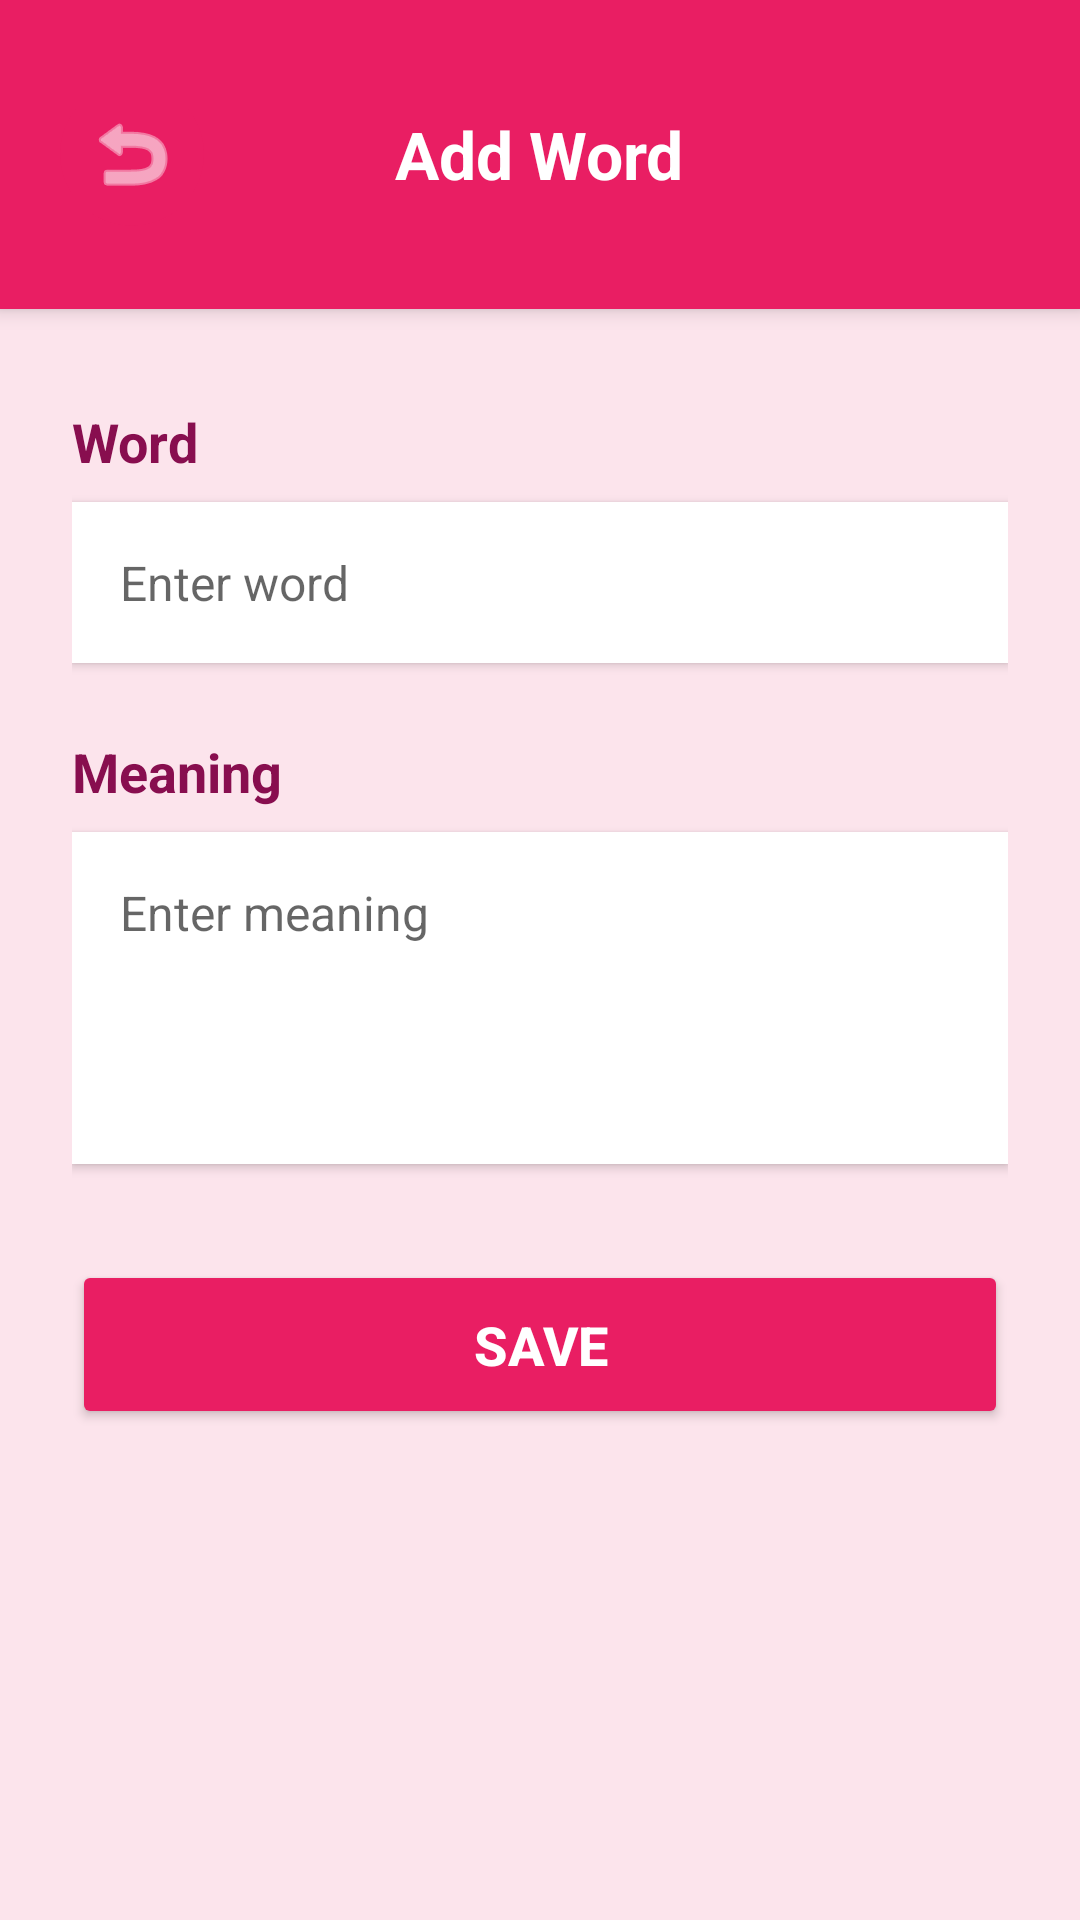

Where icons sit on this 1080 x 1920 app screen, as (x1, y1, x2, y2):
Back: (99, 123, 168, 186)
